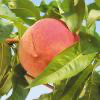Peach leaf: (25, 41, 80, 89), (5, 61, 31, 99), (52, 8, 78, 37), (9, 0, 43, 22), (85, 9, 100, 31)
